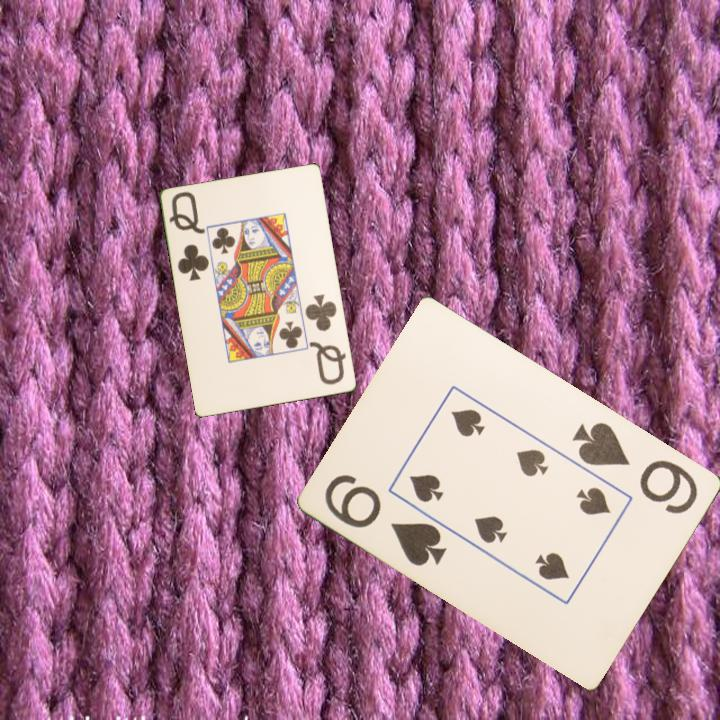6s: (569, 418, 702, 517), (321, 470, 451, 570)
Qc: (302, 291, 350, 388), (166, 188, 212, 284)
